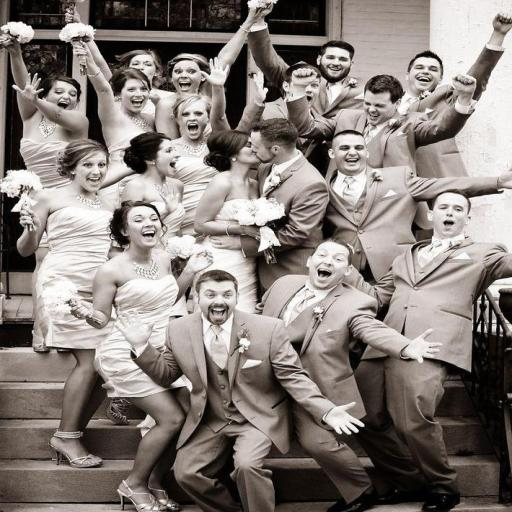person: (118, 271, 363, 511), (355, 190, 511, 511), (259, 239, 439, 418), (324, 131, 511, 281), (73, 201, 211, 352), (211, 119, 328, 291), (288, 70, 475, 170), (18, 140, 113, 302), (74, 43, 154, 205), (5, 40, 88, 188), (194, 131, 259, 312), (122, 132, 184, 248), (156, 53, 212, 138), (399, 51, 457, 119), (312, 40, 362, 118), (116, 49, 175, 115)
